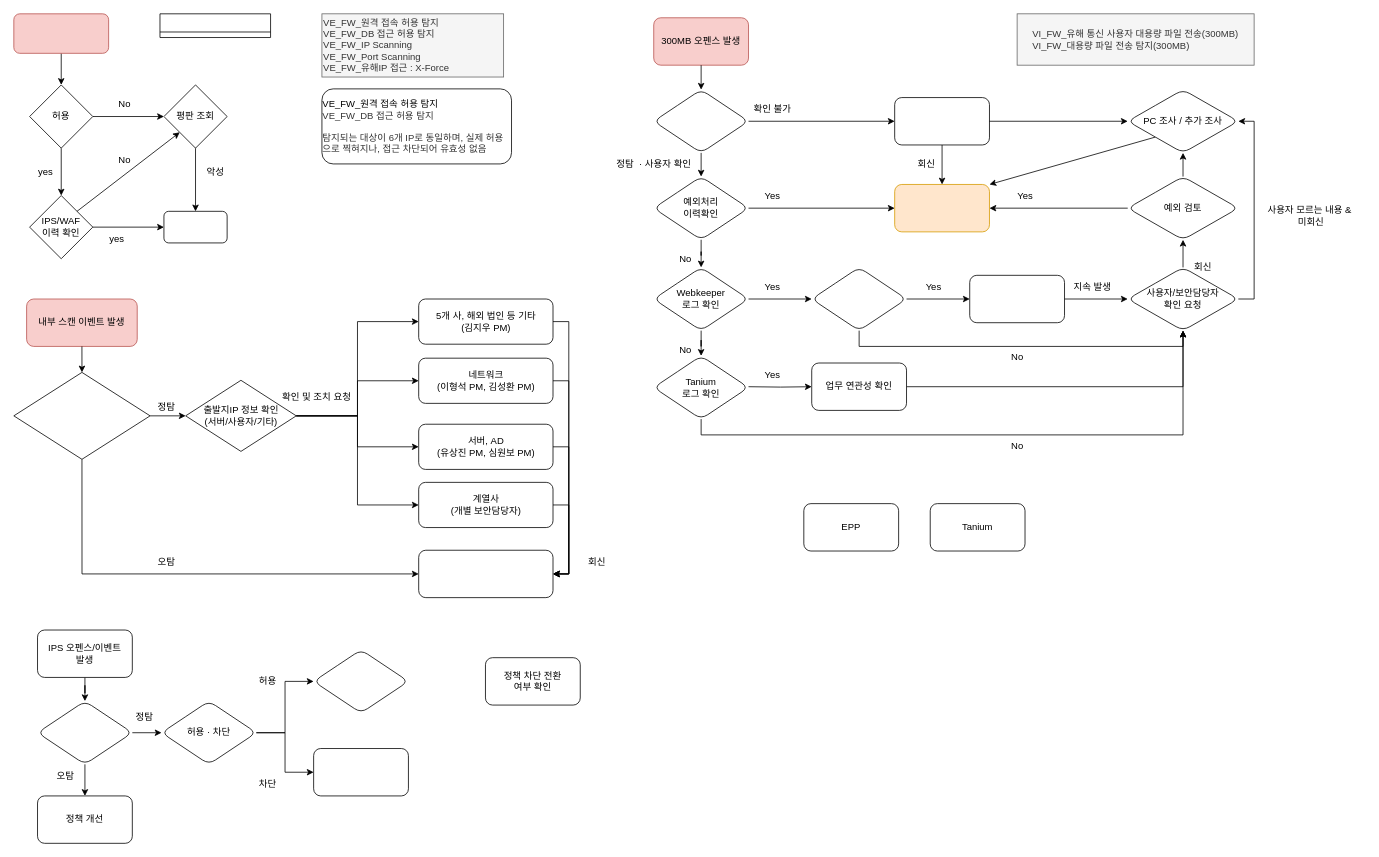
Some shapes in this 1379 by 857 pixel diagram are drawn without their labels. The shapes that lost their labels are listed below. From the top down, each one's centre as x and y in pixels, then its label:
At (x=61, y=33): "VE_FW 오펜스 발생".
At (x=215, y=25): "VE_FW 큰 틀".
At (x=701, y=121): "정 · 오탐 사용자 확인".
At (x=941, y=121): "담당자에게 확인 요청 (보안팀, 인프라팀)".
At (x=195, y=227): "방화벽 차단".
At (x=941, y=208): "예외 Ref. 갱싱 & 이력 업데이트".
At (x=859, y=299): "웹통제 대상".
At (x=1017, y=299): "웹통제 대상으로 이력 업데이트".
At (x=81, y=415): "정 · 오탐 EPP 이력 확인 유효한 허용 접근 확인".
At (x=485, y=573): "정책 개선/ 예외 적용".
At (x=360, y=681): "WAF 탐지 유효성 확인".
At (x=84, y=732): "정 · 오탐".
At (x=360, y=772): "다수 탐지에 따른 IP 방화벽 자동 차단".
